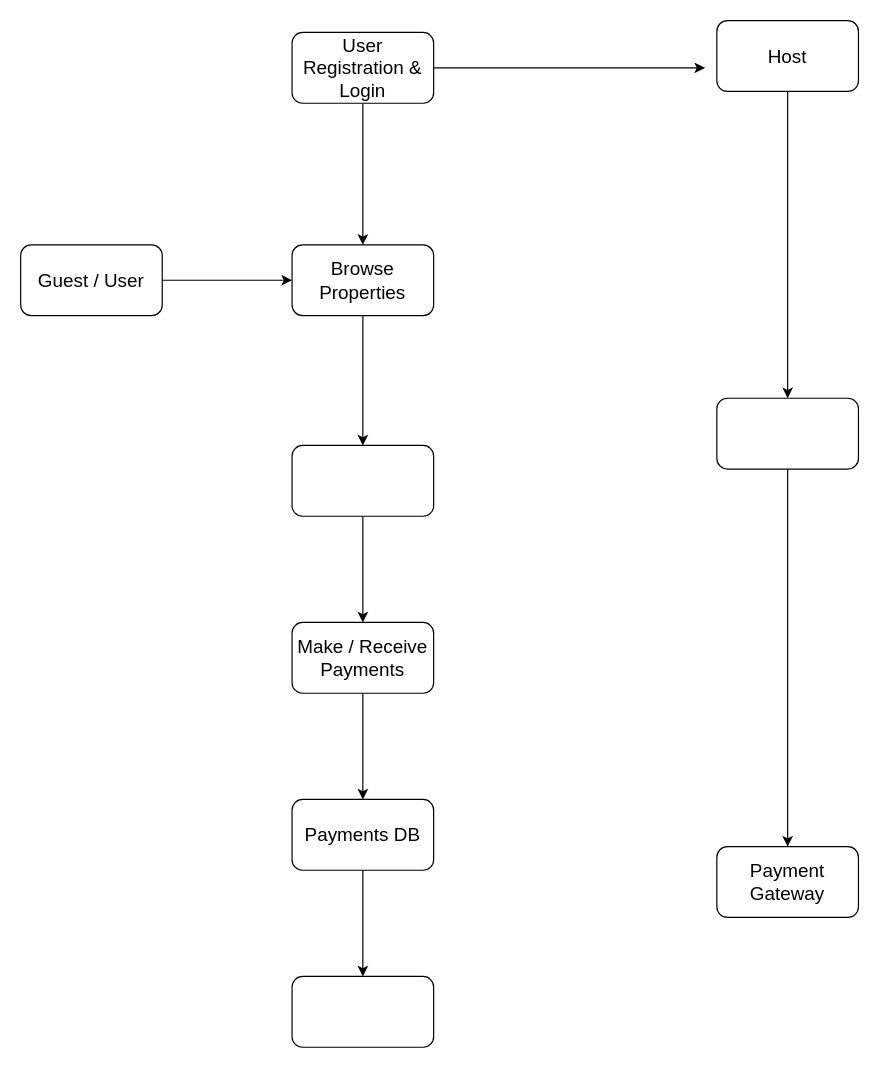
Image size: 879x1068. Some labels were removed from this diagram. The shapes that lost their labels are listed below. From the top down, each one's box as (x1, y1, x2, y2) in pixels, then its label:
(716, 397, 858, 469): Manage Listings
(291, 444, 434, 516): Book Property
(291, 975, 434, 1047): Leave Reviews
